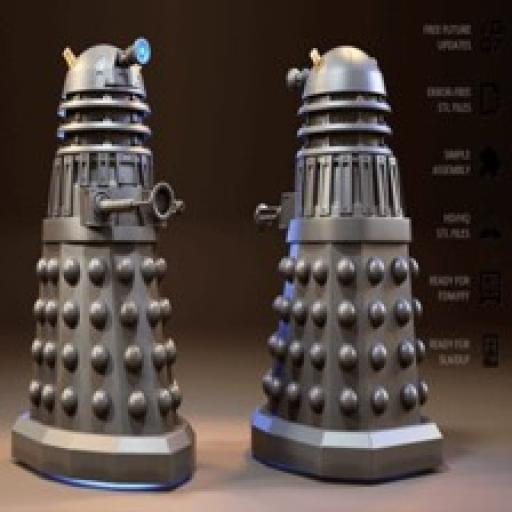dalek: (249, 37, 445, 481), (12, 24, 197, 493)
